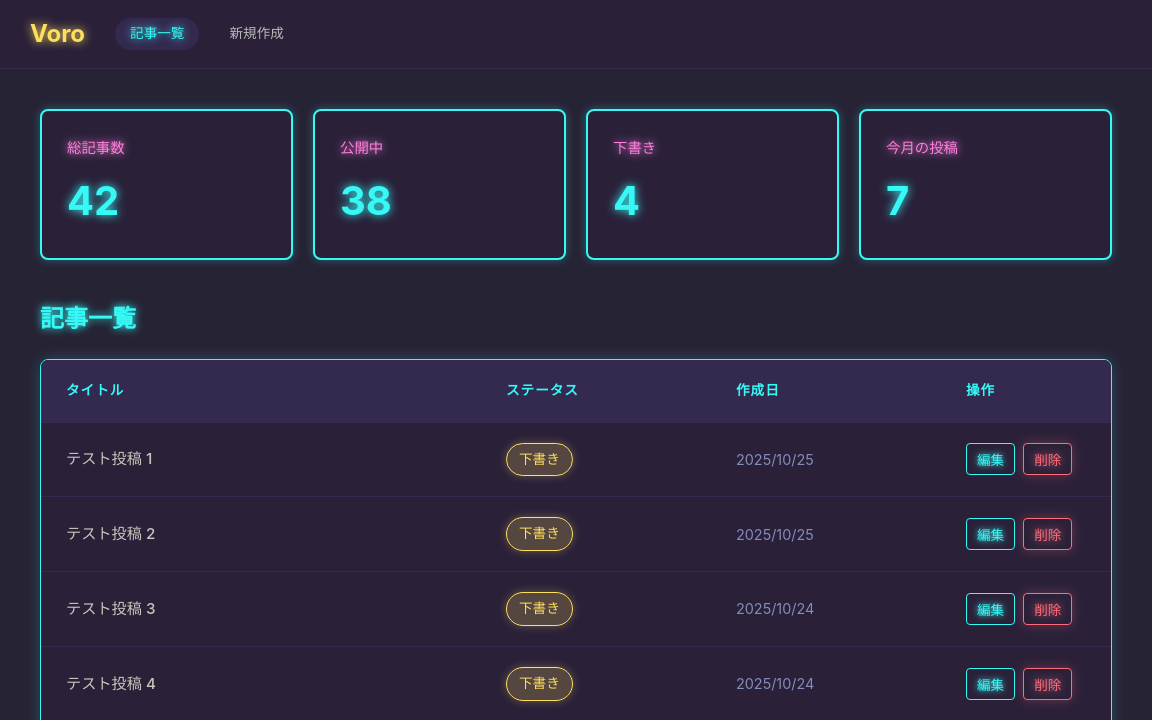
it: PostListPage - Delete Post › closes modal when cancel is clicked
This screenshot has width=1152, height=720.
Check: the text "テスト投稿 1" is shown, box [66,447,152,472]
// 削除ボタンをクリック
Click the button with aria-label "「テスト投稿 1」を削除".
click(1048, 460)  # box [1023,444,1072,476]
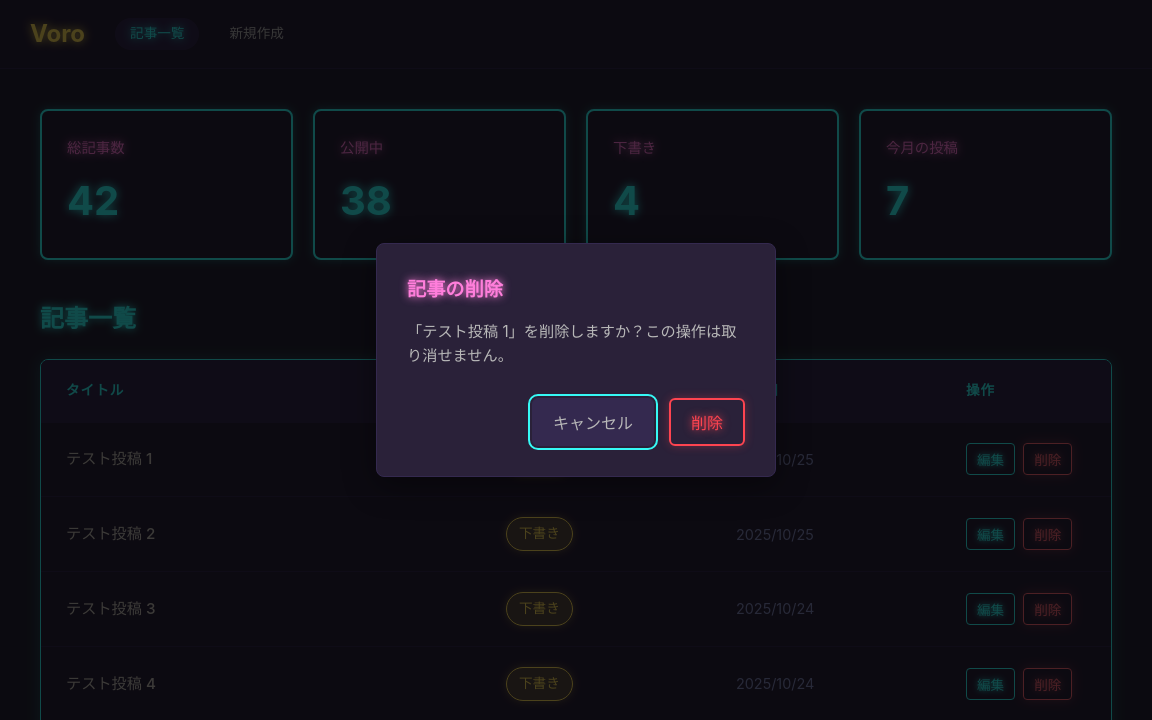
Check: the dialog is shown, box [376,243,776,477]
// キャンセルボタンをクリック
Click the button "キャンセル".
click(593, 422)  # box [532,398,654,446]
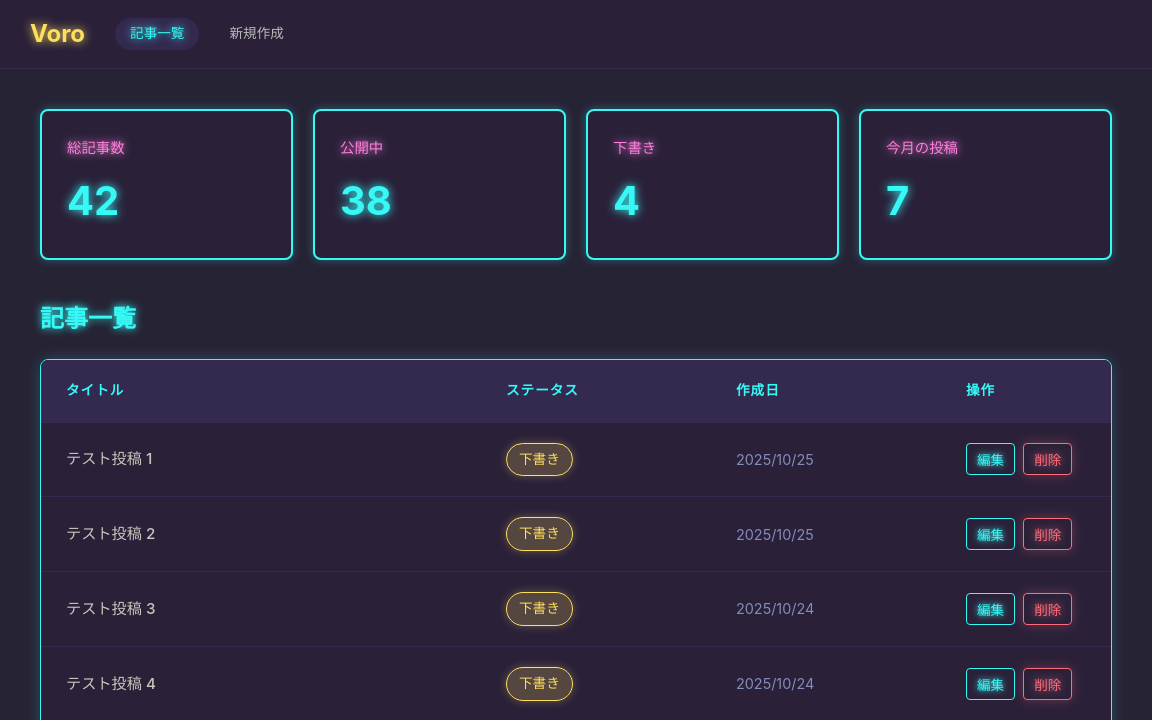
Check: the text "テスト投稿 1" is shown, box [66,447,152,472]
Check: the dialog is gone
